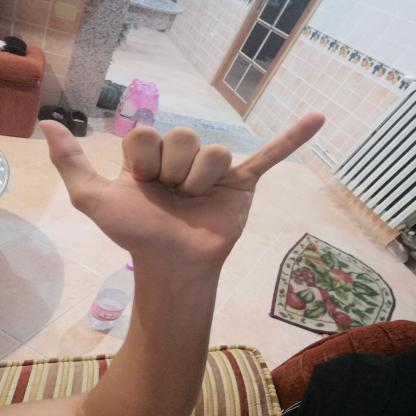YA: (22, 100, 343, 278)
